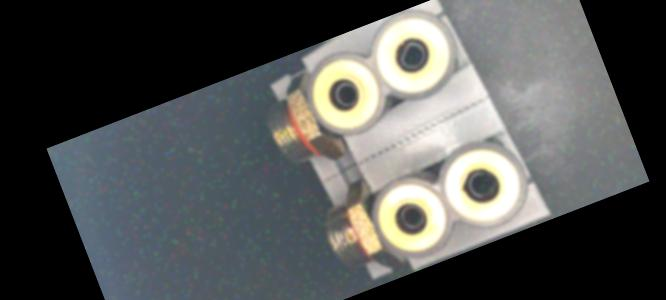off-centered: (457, 164, 504, 207), (391, 35, 433, 77)
